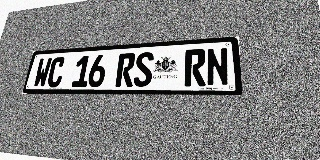1: (71, 55, 92, 87)
6: (87, 54, 108, 87)
C: (46, 57, 66, 87)
N: (206, 47, 229, 86)
R: (184, 49, 206, 86), (115, 53, 136, 87)
S: (133, 52, 154, 87)
W: (32, 58, 52, 87)
